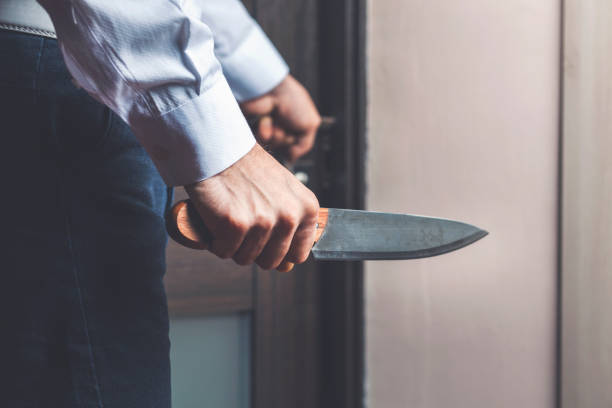knife: (165, 201, 488, 263)
